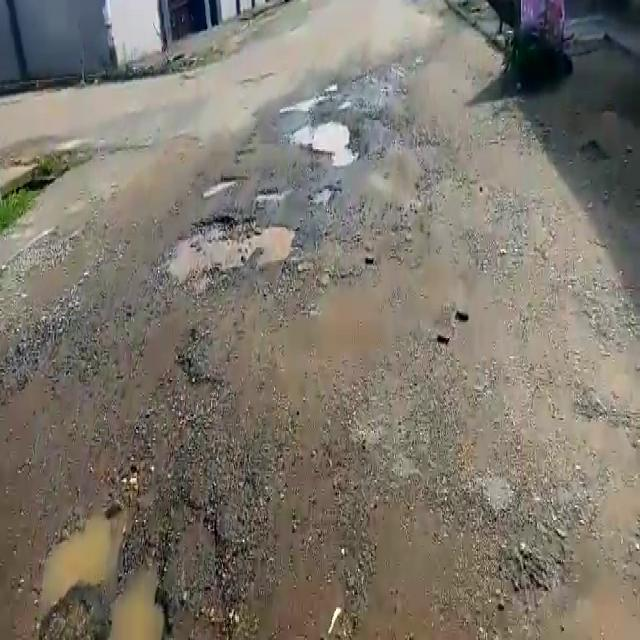pothole: (38, 498, 170, 640), (156, 216, 295, 289), (287, 116, 359, 161), (200, 170, 246, 198), (255, 186, 287, 201)
